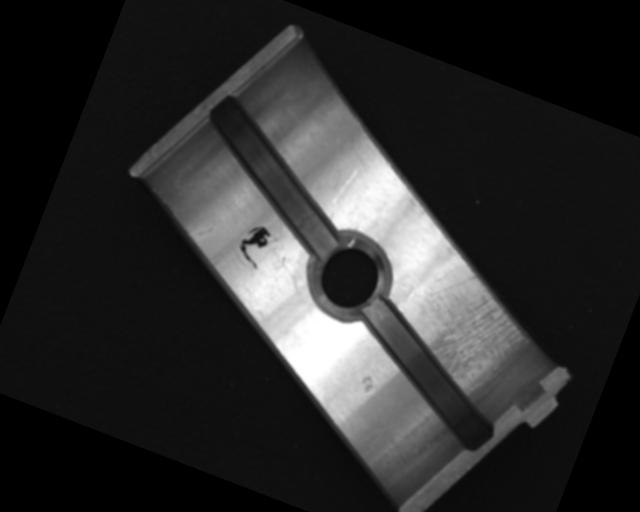blot: (231, 218, 275, 272)
bruise: (355, 372, 380, 398)
gap: (172, 90, 370, 257), (333, 297, 522, 454)
hole: (294, 222, 401, 330)
nick: (333, 161, 360, 207)
scratch: (393, 252, 546, 402)
